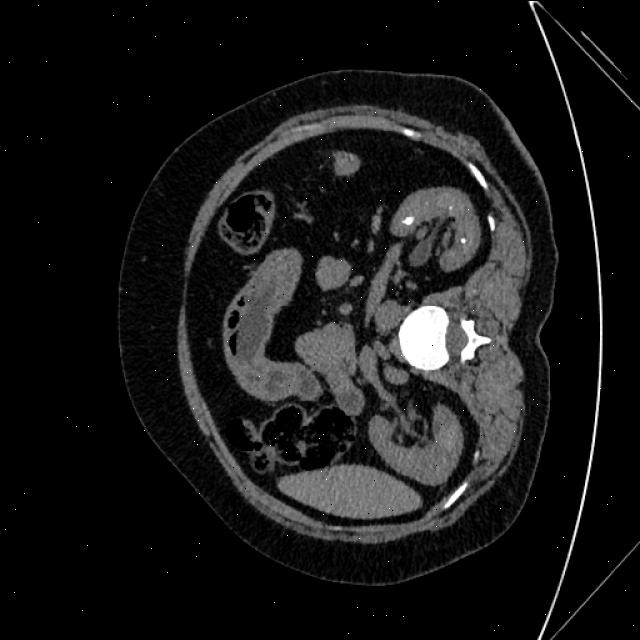kidneystone: (401, 215, 414, 225)
